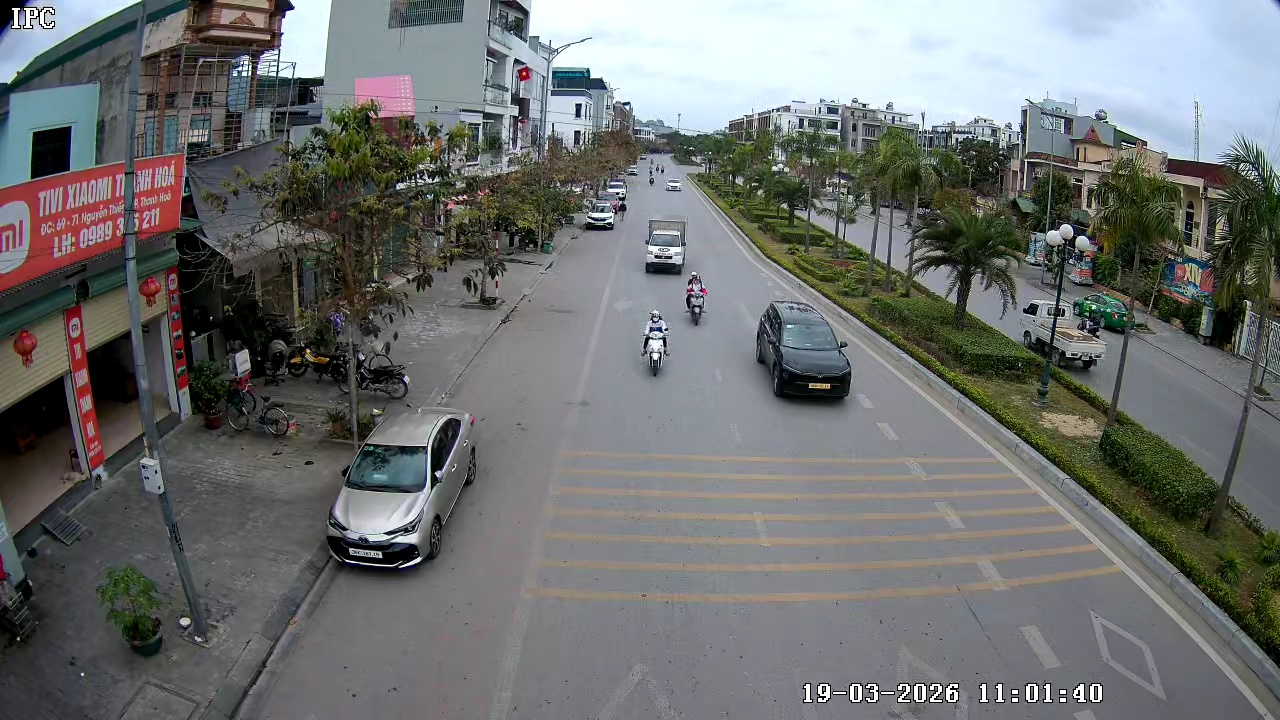car: (325, 404, 479, 571), (754, 298, 854, 401), (583, 198, 617, 231), (667, 177, 683, 195)
motorbike: (355, 338, 411, 399), (639, 307, 671, 378), (682, 271, 708, 327)
truck: (643, 216, 688, 274)
